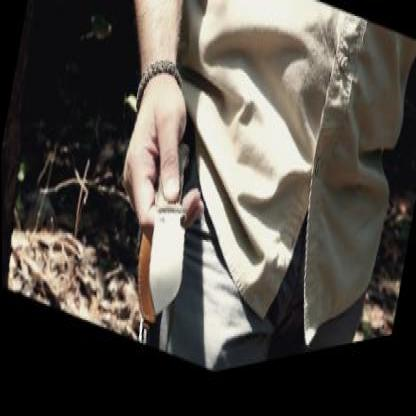knife: (99, 108, 216, 354)
